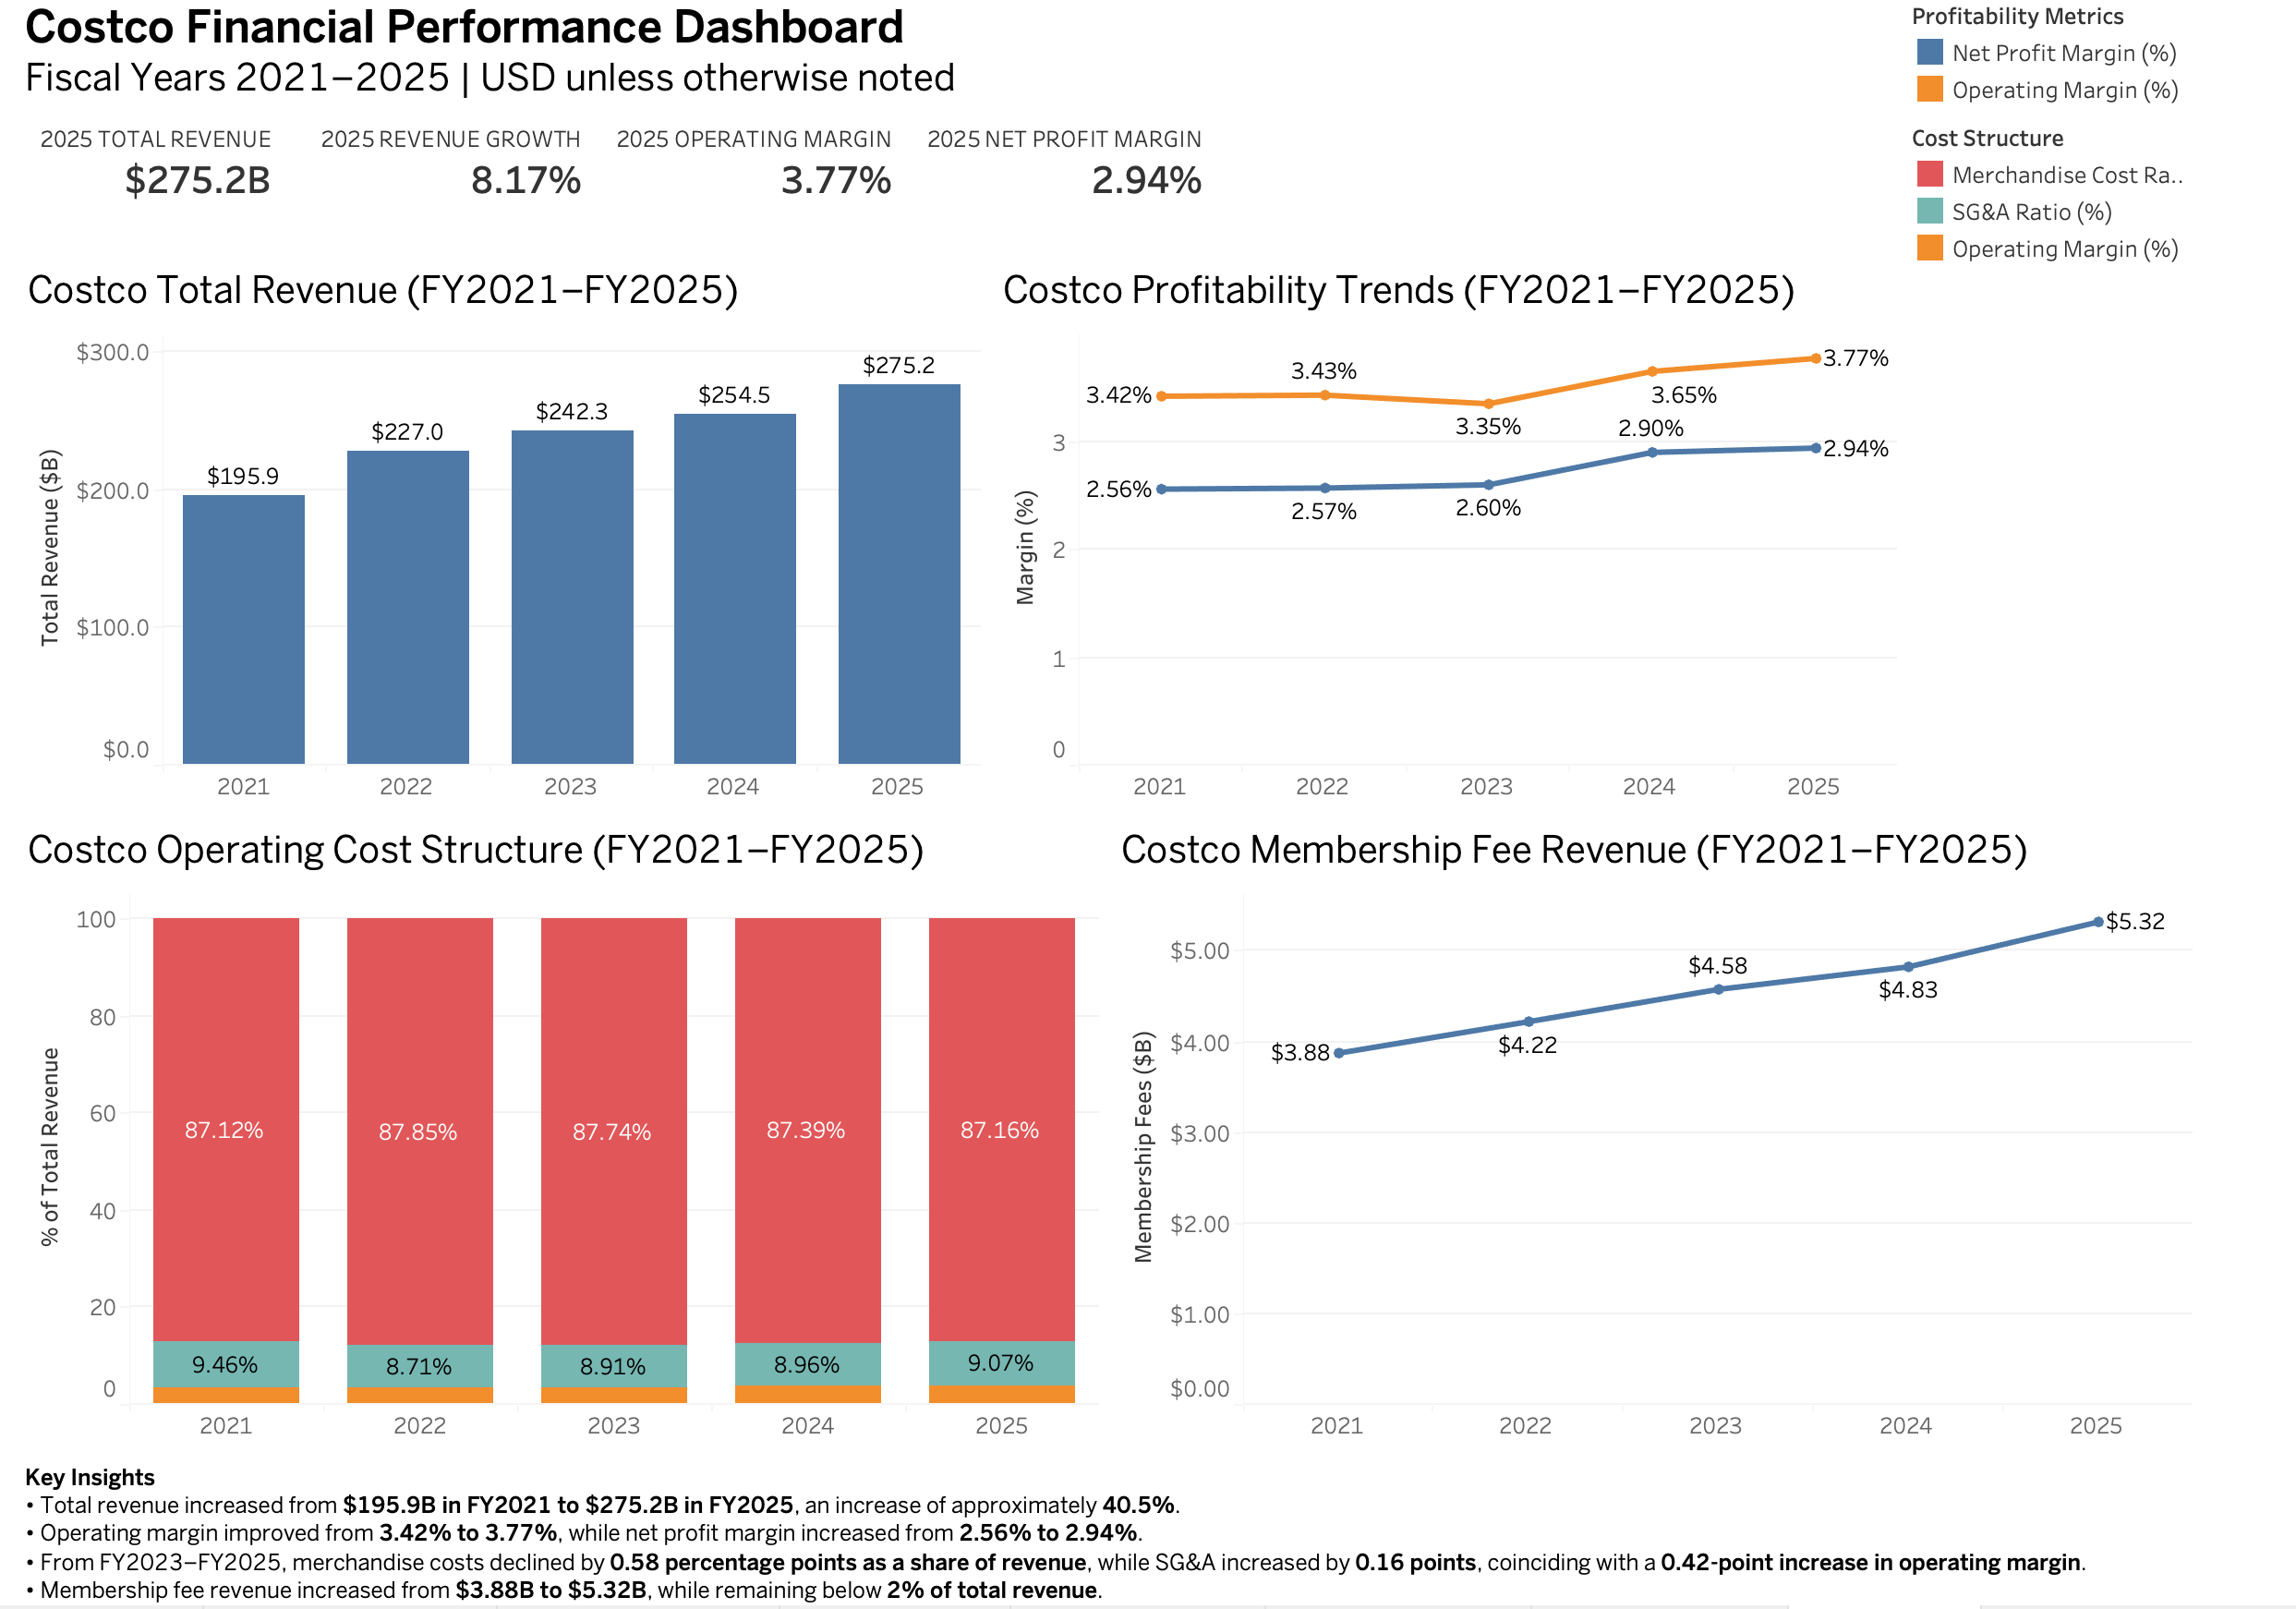

The page's visual inventory and layout, read from the dashboard file:
{"tool":"tableau","page":{"name":"Dashboard 1","canvas":[1200,900],"ordinal":0},"visuals":[{"type":"title","box":[8,8,1024,63]},{"type":"legend","title":"Profitability Trends","param":"[federated.098tc4m1d2nbj416vedh510wdapb].[:Measure Names]","box":[1032,8,160,66]},{"type":"legend","title":"Operating Cost Structure","param":"[federated.098tc4m1d2nbj416vedh510wdapb].[:Measure Names]","box":[1032,74,160,86]},{"type":"worksheet","title":"KPI - Total Revenue","mark":"Automatic","box":[8,74.1,148,74.2]},{"type":"worksheet","title":"KPI - Revenue Growth","mark":"Automatic","box":[156,74.1,168,74.2]},{"type":"worksheet","title":"KPI - Operating Margin","mark":"Automatic","box":[324,74.1,168,74.2]},{"type":"worksheet","title":"KPI - Net Proft Margin","mark":"Automatic","box":[492,74.1,168,74.2]},{"type":"worksheet","title":"Revenue Trend","mark":"Automatic","rows":["Calculation_0716795424911360"],"cols":["Fiscal Year"],"box":[8,148.3,528,302.7]},{"type":"worksheet","title":"Profitability Trends","mark":"Line","cols":["Fiscal Year"],"box":[536,148.3,496,302.7]},{"type":"worksheet","title":"Operating Cost Structure","mark":"Bar","cols":["Fiscal Year"],"box":[8,451,592,346]},{"type":"worksheet","title":"Membership Fee Growth","mark":"Line","rows":["Calculation_0716795431161857"],"cols":["Fiscal Year"],"box":[600,451,592,346]},{"type":"text","box":[8,797,1184,95]}]}

Visuals, with their boxes on the page's 1200x900 design canvas (x1, y1, x2, y2). These are canvas units, not pixel positions in the 2296x1609 screenshot, which may show the page scaled, cropped or inside an application window:
title: bbox=[8, 8, 1032, 71]
"Profitability Trends" legend: bbox=[1032, 8, 1192, 74]
"Operating Cost Structure" legend: bbox=[1032, 74, 1192, 160]
"KPI - Total Revenue" worksheet: bbox=[8, 74, 156, 148]
"KPI - Revenue Growth" worksheet: bbox=[156, 74, 324, 148]
"KPI - Operating Margin" worksheet: bbox=[324, 74, 492, 148]
"KPI - Net Proft Margin" worksheet: bbox=[492, 74, 660, 148]
"Revenue Trend" worksheet: bbox=[8, 148, 536, 451]
"Profitability Trends" worksheet (Line marks): bbox=[536, 148, 1032, 451]
"Operating Cost Structure" worksheet (Bar marks): bbox=[8, 451, 600, 797]
"Membership Fee Growth" worksheet (Line marks): bbox=[600, 451, 1192, 797]
text: bbox=[8, 797, 1192, 892]
